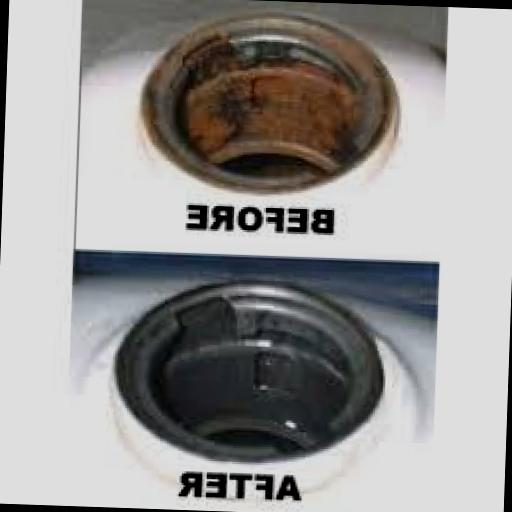corrosion: (145, 11, 395, 190)
